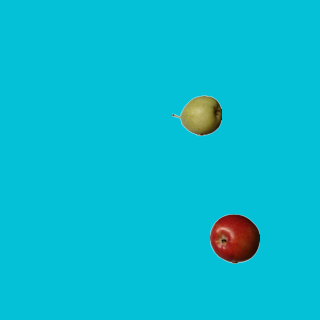Apple Braeburn: (209, 213, 259, 263)
Pear: (171, 90, 221, 140)
